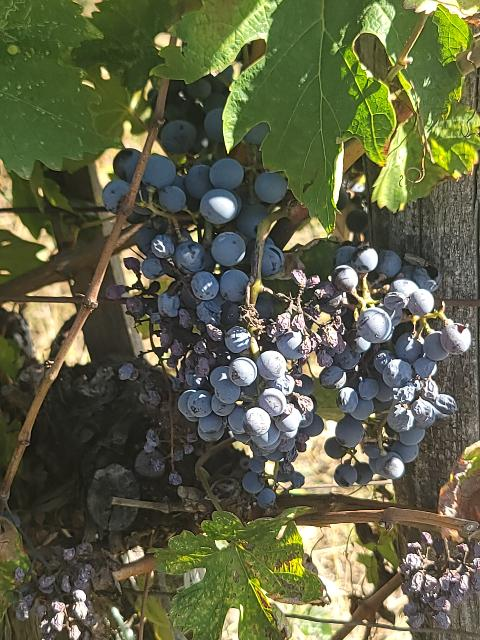grapes: (110, 94, 288, 386), (321, 245, 471, 486), (164, 325, 314, 508)
